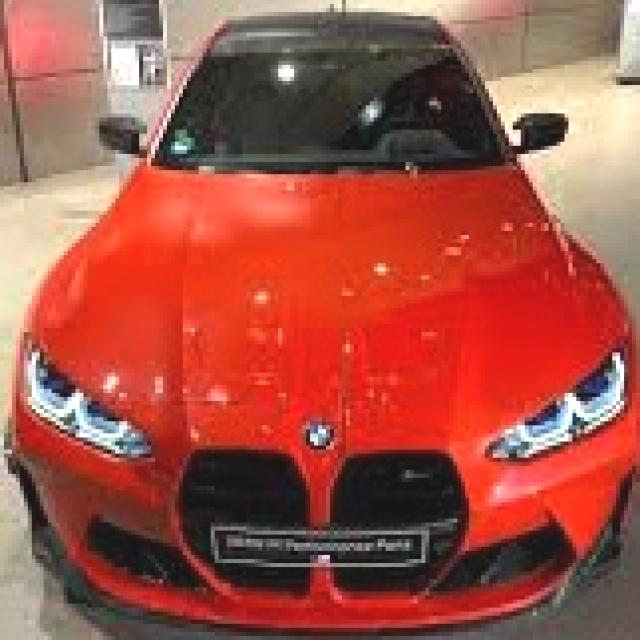red: (38, 0, 634, 640)
